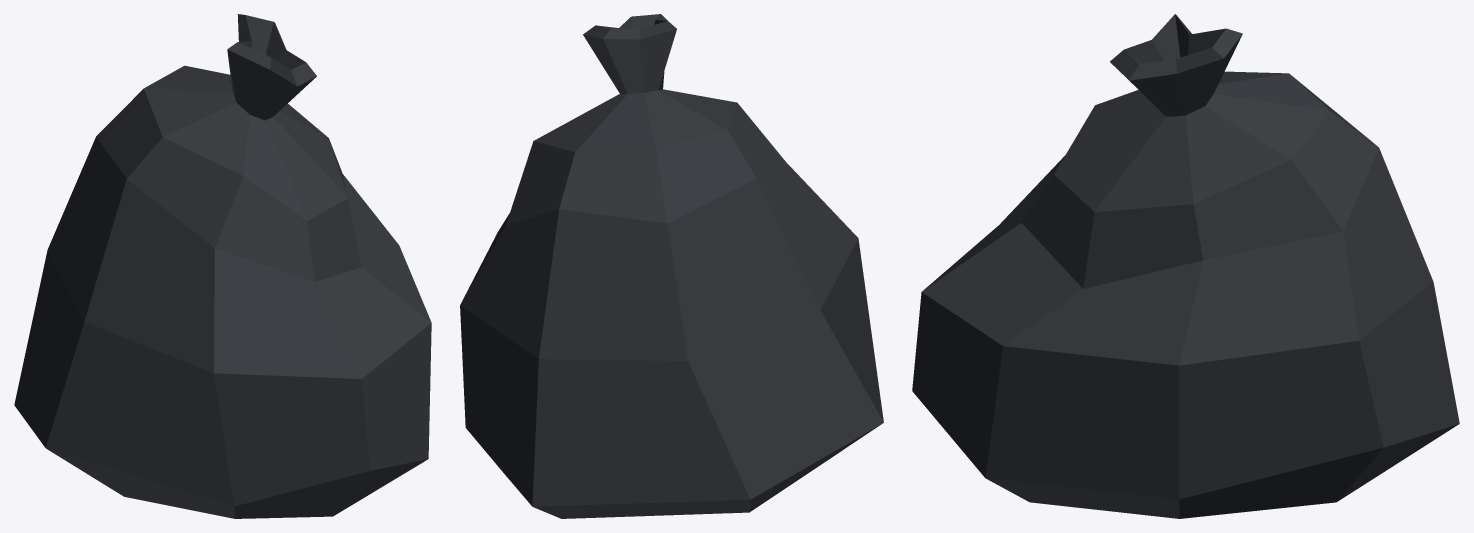
Rendered from SM_Prop_TrashBag_03.fbx.
3 views of the same model, side by side, from view 1: azimuth 30°, elevation 25°; view 2: azimuth 150°, elevation 25°; view 3: azimuth 270°, elevation 25° (orthographic). The views are drawn at different scales.
Parts seen in each view (by area): view 1: SM_Prop_TrashBag_03; view 2: SM_Prop_TrashBag_03; view 3: SM_Prop_TrashBag_03.
Boxes of the visible parts, x1=… form: SM_Prop_TrashBag_03: x1=14, y1=14, x2=431, y2=518; SM_Prop_TrashBag_03: x1=460, y1=14, x2=883, y2=518; SM_Prop_TrashBag_03: x1=912, y1=14, x2=1459, y2=518.
Bounding box in the file's own units: 70.94 × 76.64 × 85.06.
